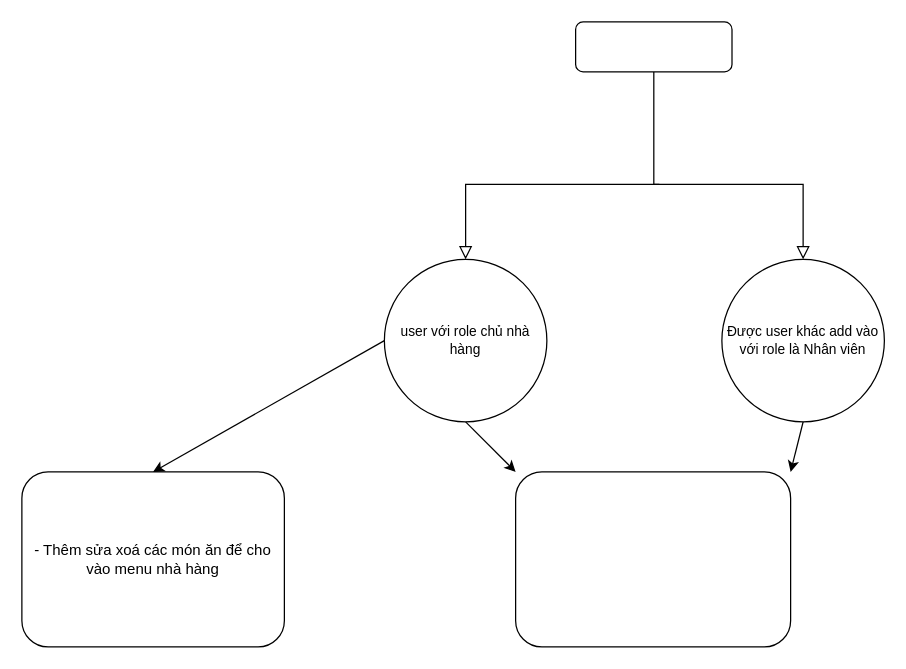
Some shapes in this 906 by 669 pixel diagram are drawn without their labels. Here are the shapes that lost their labels. From the top down, the centre of each, then its label:
At (653,46): "user".
At (652,559): "- Tạo hoá đơn order đồ ăn - Thêm sửa xoá các món trong hoá đơn".
